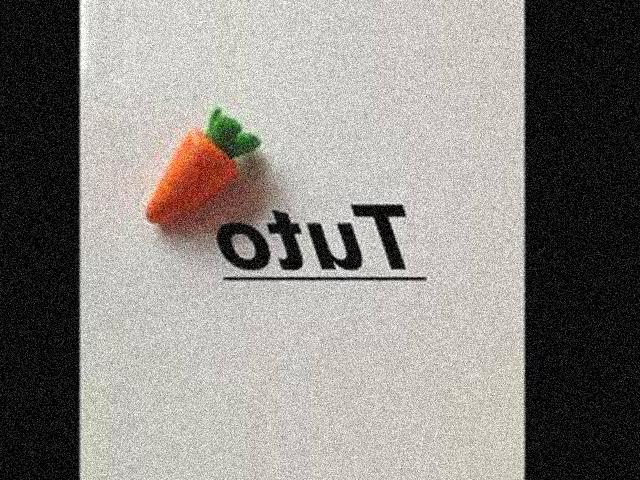carrot: (137, 127, 248, 246)
